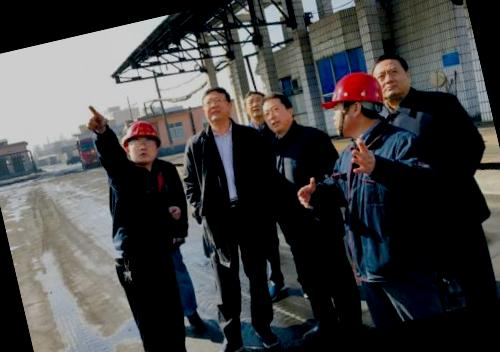no_helmet: (366, 44, 423, 108), (254, 88, 301, 136), (197, 82, 239, 134), (240, 87, 268, 123)
